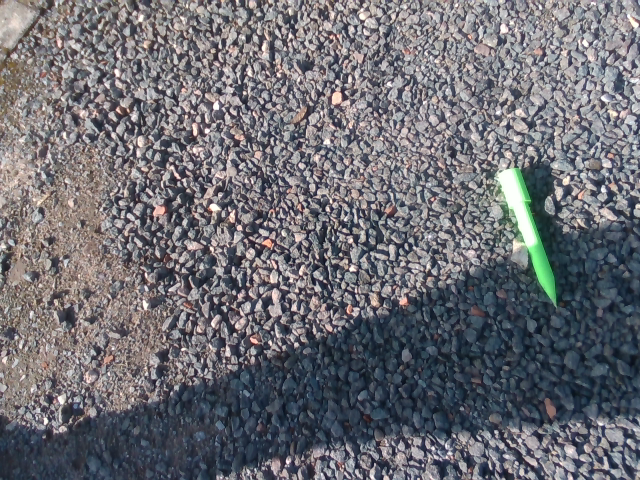Probe: (495, 164, 562, 312)
